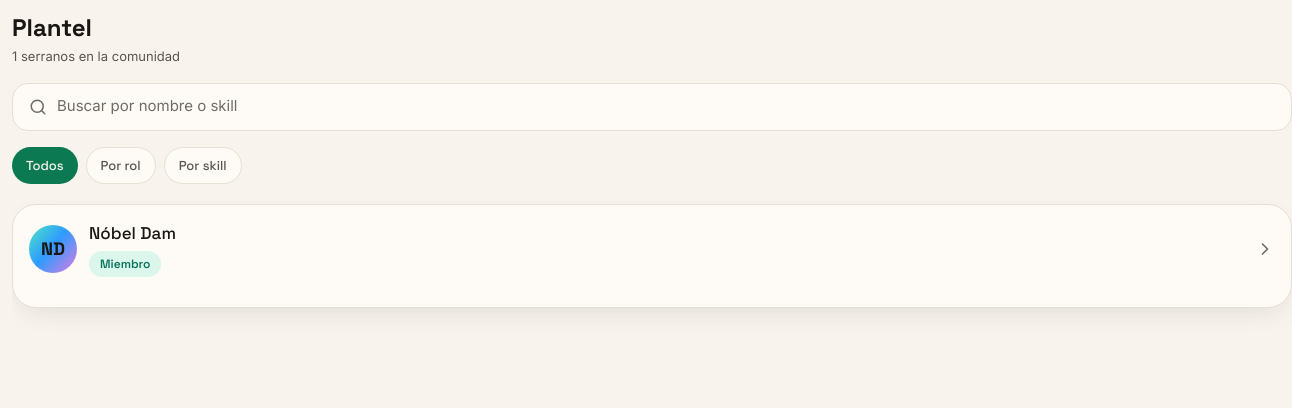
PlantelList › lists catalog role options even when no member has that role
Click the button "Por rol" at (121, 165), box [86,146,156,184]
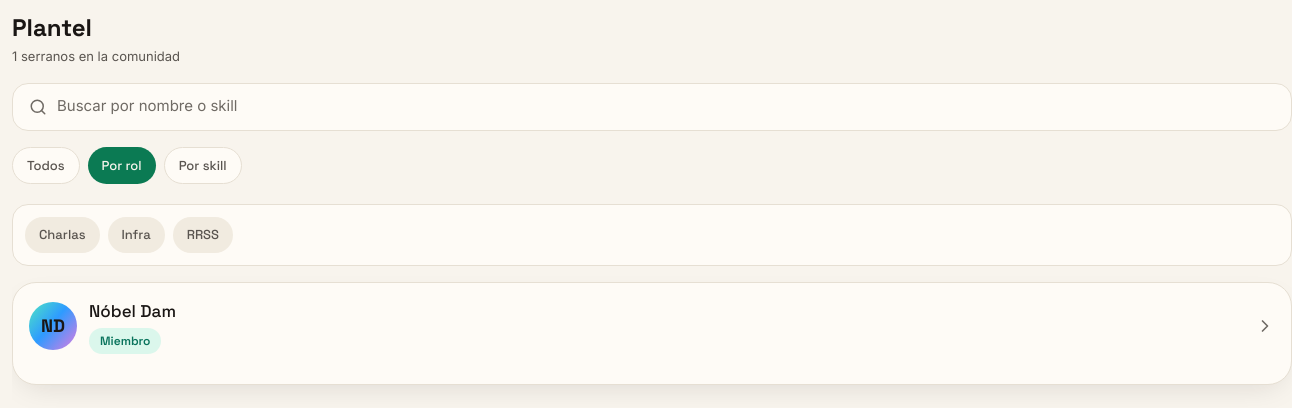
Expected: the button "Charlas" is shown, [25,217,100,252]
Expected: the button "RRSS" is shown, [173,217,233,252]
